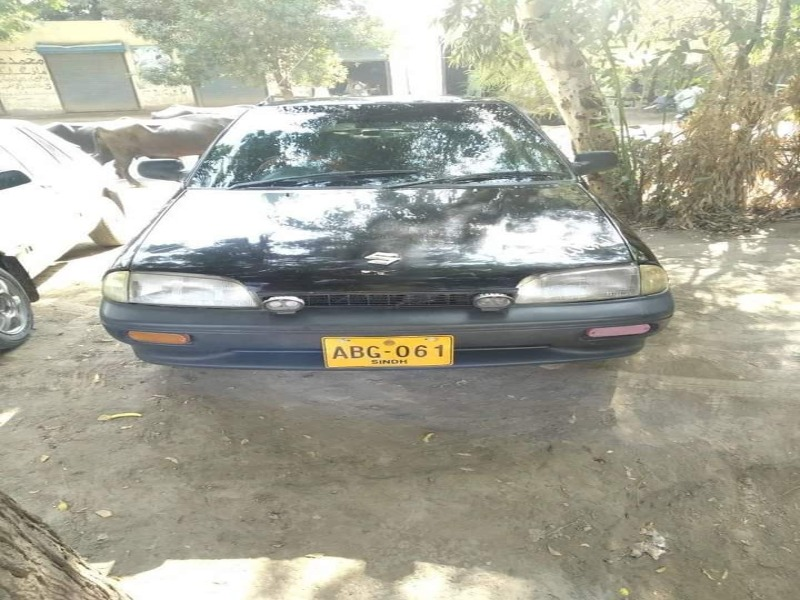License Plate: (321, 331, 458, 372)
